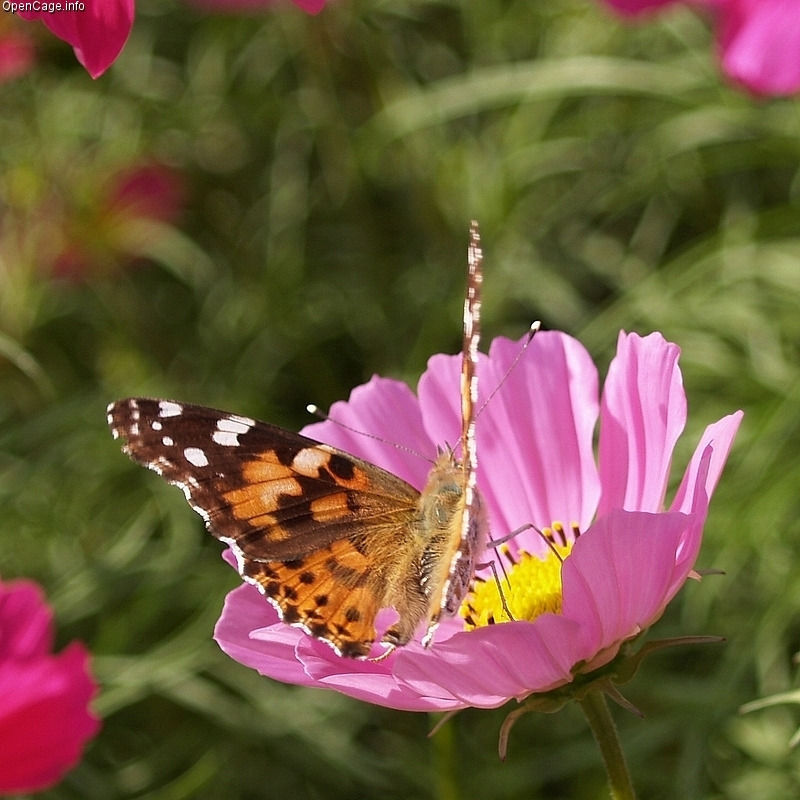Argyreus hyperbius: (94, 211, 570, 666)
butterfly: (96, 213, 572, 668)
